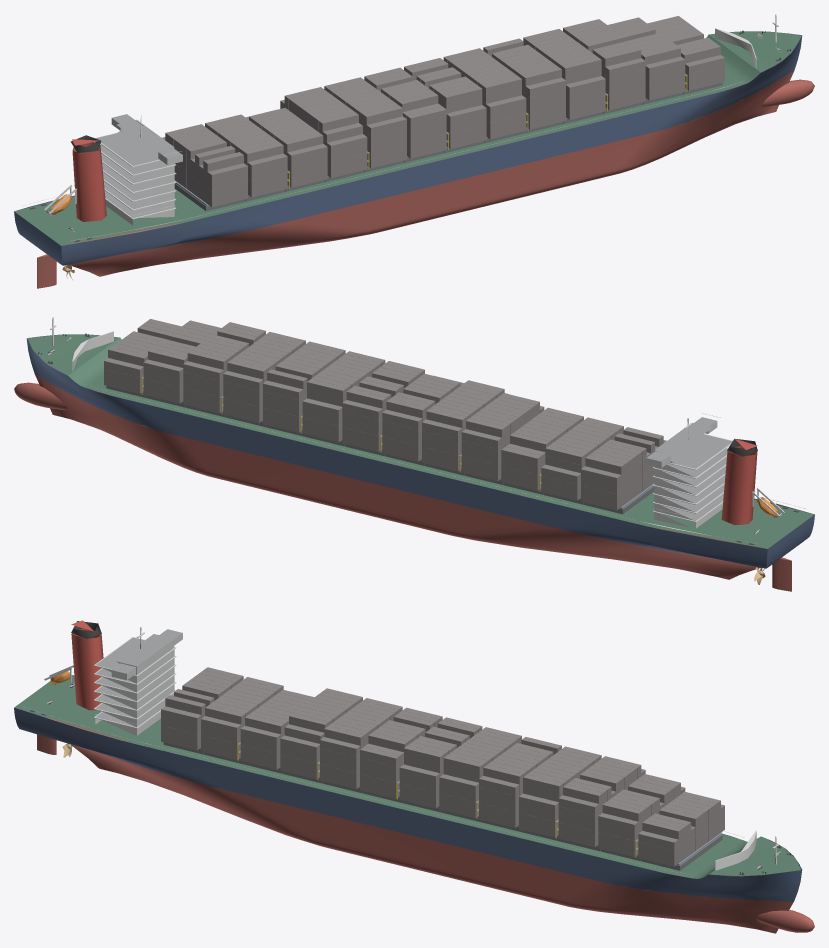
File: container.glb
The picture shows the model from 3 angles, top to bottom: view 1: azimuth 30°, elevation 25°; view 2: azimuth 150°, elevation 25°; view 3: azimuth 330°, elevation 25°; orthographic projection.
Bounding box in the file's own units: 262 × 48.7 × 32.65.
